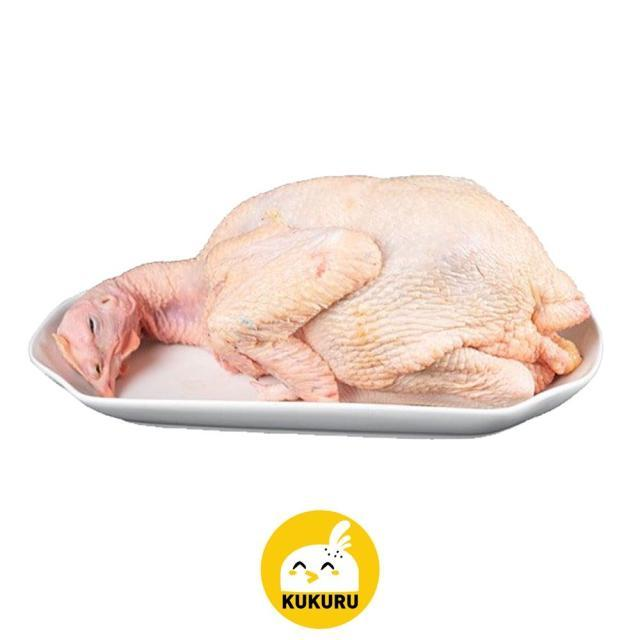Chicken: (162, 161, 612, 438)
